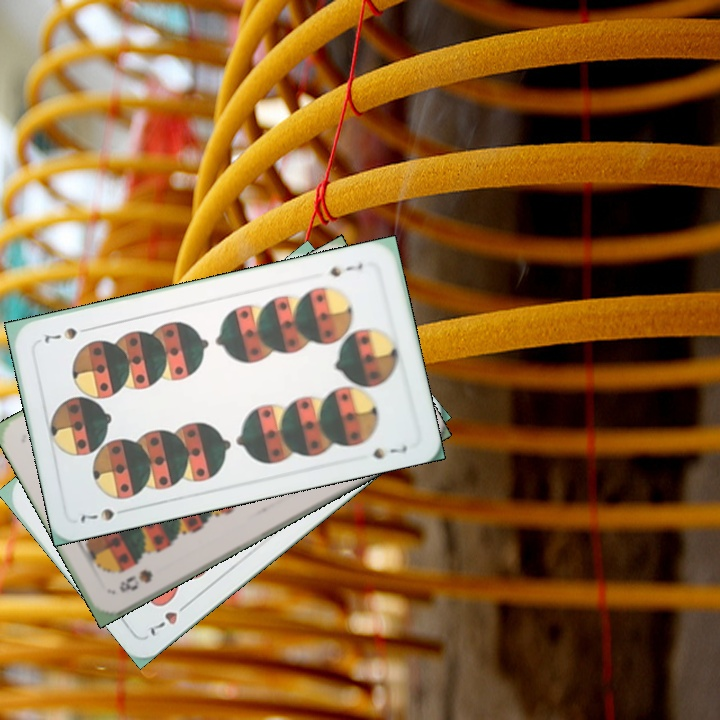H7: (143, 597, 194, 639)
S7: (76, 504, 133, 525), (326, 258, 366, 280)
S8: (115, 565, 156, 596)
